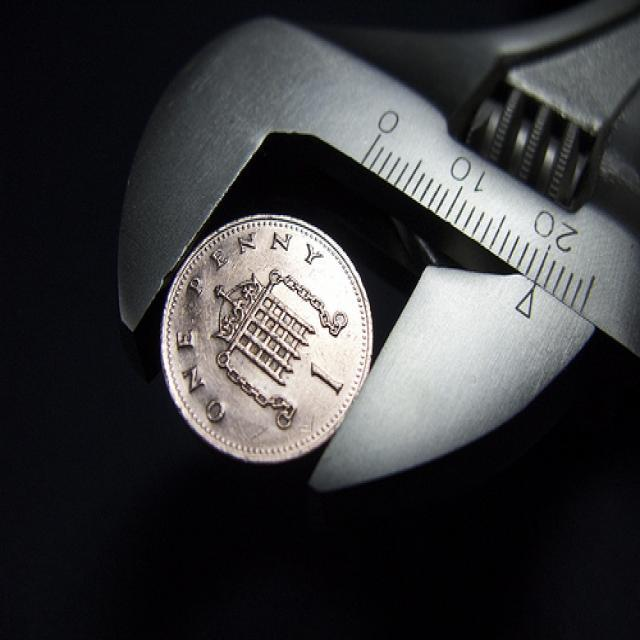wrench: (101, 0, 640, 529)
